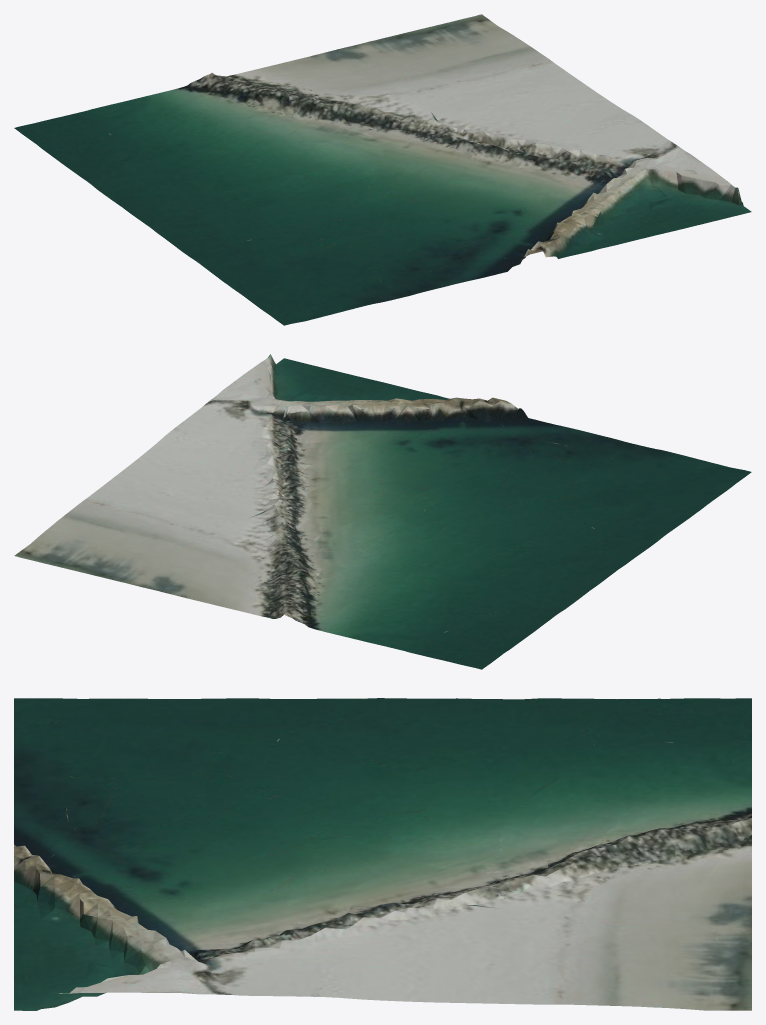
The picture shows the model from 3 angles, top to bottom: view 1: azimuth 30°, elevation 25°; view 2: azimuth 150°, elevation 25°; view 3: azimuth 270°, elevation 25°; orthographic projection. The views are drawn at different scales.
Bounding box in the file's own units: 209 × 6.85 × 209.
Materials: 3 (3 with a texture image).
